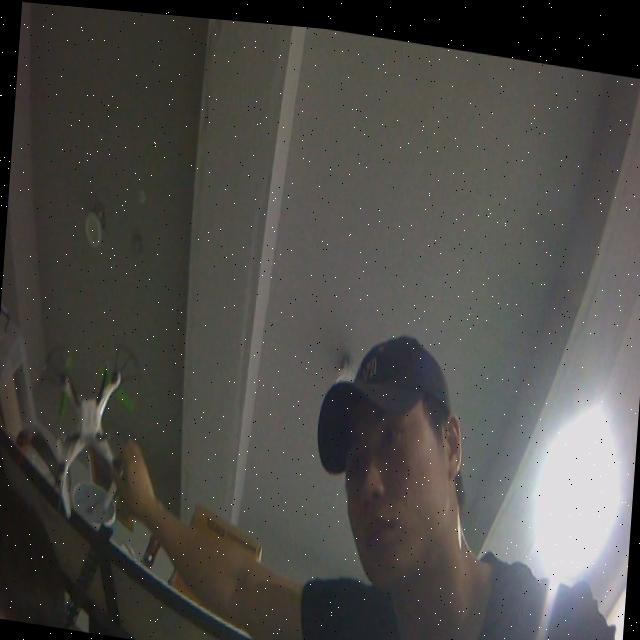drone: (30, 325, 154, 538)
